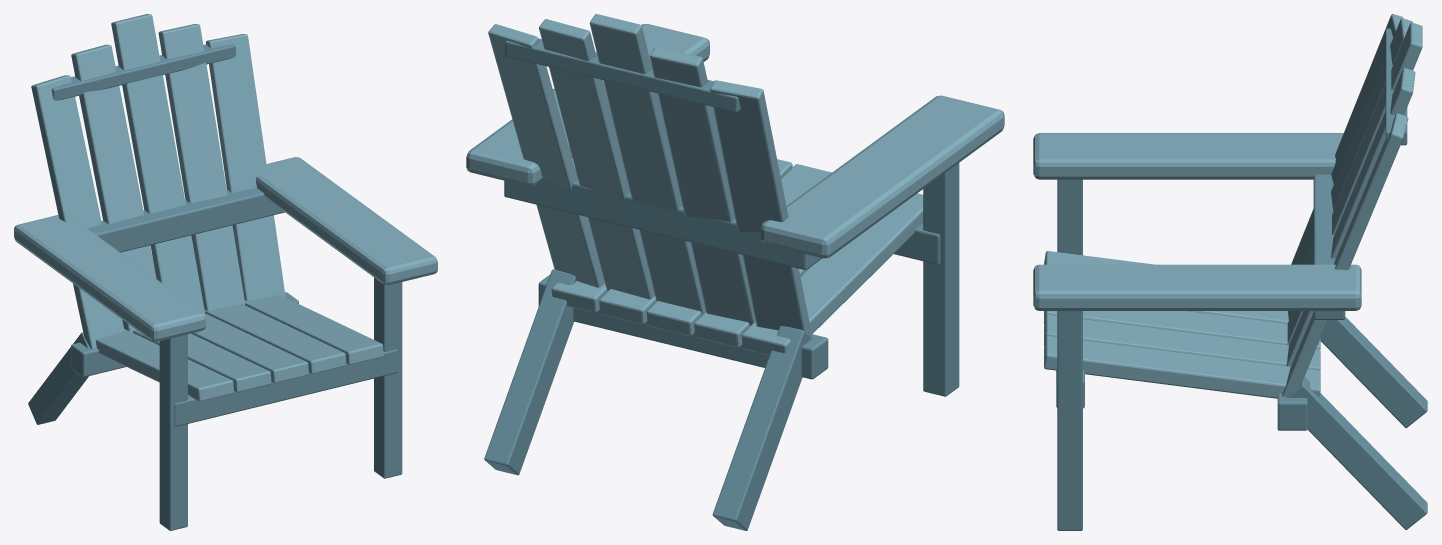
The model's file is chair_adirondack.glb.
The picture shows the model from 3 angles, left to right: view 1: azimuth 30°, elevation 25°; view 2: azimuth 150°, elevation 25°; view 3: azimuth 270°, elevation 25°; orthographic projection. The views are drawn at different scales.
Visible parts, largest first — view 1: Adirondack_Fanned_Back_Slat.003, Adirondack_Fanned_Back_Slat.002, Adirondack_Wide_Armrest, Adirondack_Wide_Armrest.001, Adirondack_Fanned_Back_Slat.004, Adirondack_Fanned_Back_Slat.001, Adirondack_Fanned_Back_Slat, Adirondack_Back_Arm_Rail, Adirondack_Front_Leg, Adirondack_Front_Leg.001, Adirondack_Front_Seat_Rail, Adirondack_Sloped_Seat_Slat.003 (+7 smaller); view 2: Adirondack_Wide_Armrest, Adirondack_Fanned_Back_Slat.002, Adirondack_Fanned_Back_Slat.001, Adirondack_Fanned_Back_Slat.003, Adirondack_Fanned_Back_Slat, Adirondack_Fanned_Back_Slat.004, Adirondack_Back_Arm_Rail, Adirondack_Rear_Leg, Adirondack_Front_Leg, Adirondack_Rear_Leg.001, Adirondack_Sloped_Seat_Slat, Adirondack_Wide_Armrest.001 (+7 smaller); view 3: Adirondack_Wide_Armrest.001, Adirondack_Wide_Armrest, Adirondack_Sloped_Seat_Slat.004, Adirondack_Rear_Leg.001, Adirondack_Front_Leg.001, Adirondack_Sloped_Seat_Slat.003, Adirondack_Rear_Leg, Adirondack_Fanned_Back_Slat.004, Adirondack_Sloped_Seat_Slat.002, Adirondack_Fanned_Back_Slat.003, Adirondack_Fanned_Back_Slat.002, Adirondack_Fanned_Back_Slat (+7 smaller).
Part boxes in pixels (bbox=[...]): Adirondack_Fanned_Back_Slat.003: bbox=[158, 24, 244, 310]; Adirondack_Fanned_Back_Slat.002: bbox=[111, 14, 204, 312]; Adirondack_Wide_Armrest: bbox=[14, 215, 205, 341]; Adirondack_Wide_Armrest.001: bbox=[255, 157, 437, 285]; Adirondack_Fanned_Back_Slat.004: bbox=[206, 34, 285, 300]; Adirondack_Fanned_Back_Slat.001: bbox=[71, 44, 156, 332]; Adirondack_Fanned_Back_Slat: bbox=[31, 75, 124, 349]; Adirondack_Back_Arm_Rail: bbox=[88, 188, 284, 252]; Adirondack_Front_Leg: bbox=[159, 334, 187, 530]; Adirondack_Front_Leg.001: bbox=[374, 277, 402, 478]; Adirondack_Front_Seat_Rail: bbox=[174, 349, 397, 426]; Adirondack_Sloped_Seat_Slat.003: bbox=[204, 304, 346, 374]; Adirondack_Wide_Armrest: bbox=[761, 95, 1004, 258]; Adirondack_Fanned_Back_Slat.002: bbox=[589, 14, 705, 314]; Adirondack_Fanned_Back_Slat.001: bbox=[650, 47, 755, 325]; Adirondack_Fanned_Back_Slat.003: bbox=[539, 19, 654, 299]; Adirondack_Fanned_Back_Slat: bbox=[710, 80, 811, 336]; Adirondack_Fanned_Back_Slat.004: bbox=[488, 24, 604, 287]; Adirondack_Back_Arm_Rail: bbox=[504, 177, 821, 269]; Adirondack_Rear_Leg: bbox=[712, 326, 812, 530]; Adirondack_Front_Leg: bbox=[923, 163, 959, 396]; Adirondack_Rear_Leg.001: bbox=[484, 269, 576, 475]; Adirondack_Sloped_Seat_Slat: bbox=[741, 193, 923, 355]; Adirondack_Wide_Armrest.001: bbox=[466, 24, 709, 186]; Adirondack_Wide_Armrest.001: bbox=[1033, 264, 1361, 310]; Adirondack_Wide_Armrest: bbox=[1033, 133, 1343, 179]; Adirondack_Sloped_Seat_Slat.004: bbox=[1044, 336, 1320, 398]; Adirondack_Rear_Leg.001: bbox=[1286, 376, 1427, 529]; Adirondack_Front_Leg.001: bbox=[1057, 311, 1082, 530]; Adirondack_Sloped_Seat_Slat.003: bbox=[1044, 314, 1320, 370]; Adirondack_Rear_Leg: bbox=[1320, 317, 1427, 427]; Adirondack_Fanned_Back_Slat.004: bbox=[1282, 113, 1408, 396]; Adirondack_Sloped_Seat_Slat.002: bbox=[1044, 311, 1320, 349]; Adirondack_Fanned_Back_Slat.003: bbox=[1286, 68, 1415, 366]; Adirondack_Fanned_Back_Slat.002: bbox=[1287, 22, 1422, 345]; Adirondack_Fanned_Back_Slat: bbox=[1291, 14, 1403, 264].
Size of the model in its own units: 0.781 by 0.9909 by 0.8008.
